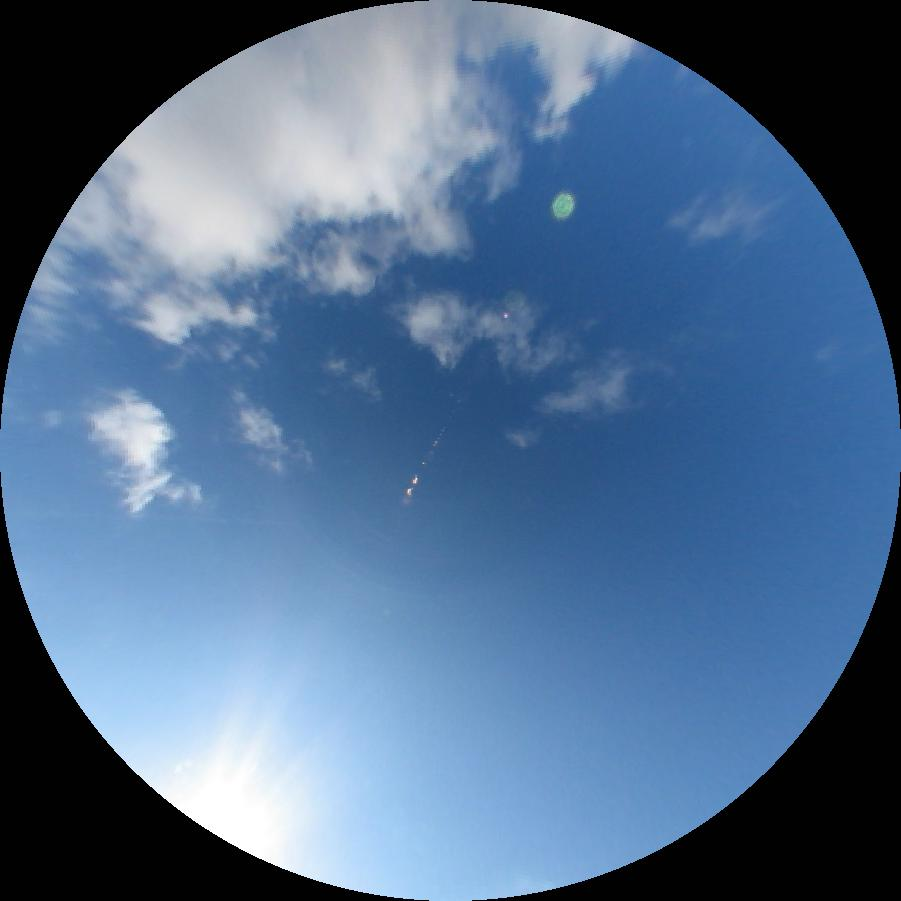parasite: (4, 513, 282, 523)
sun: (172, 775, 282, 866)
